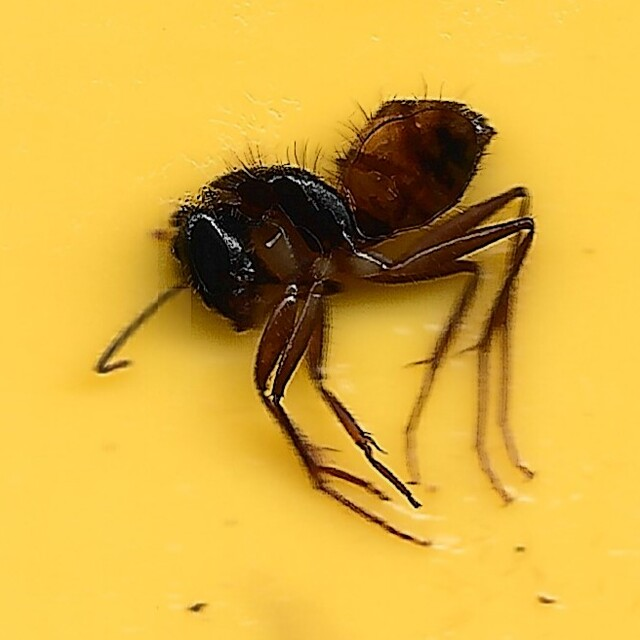Hymenoptera: (98, 97, 542, 543)
